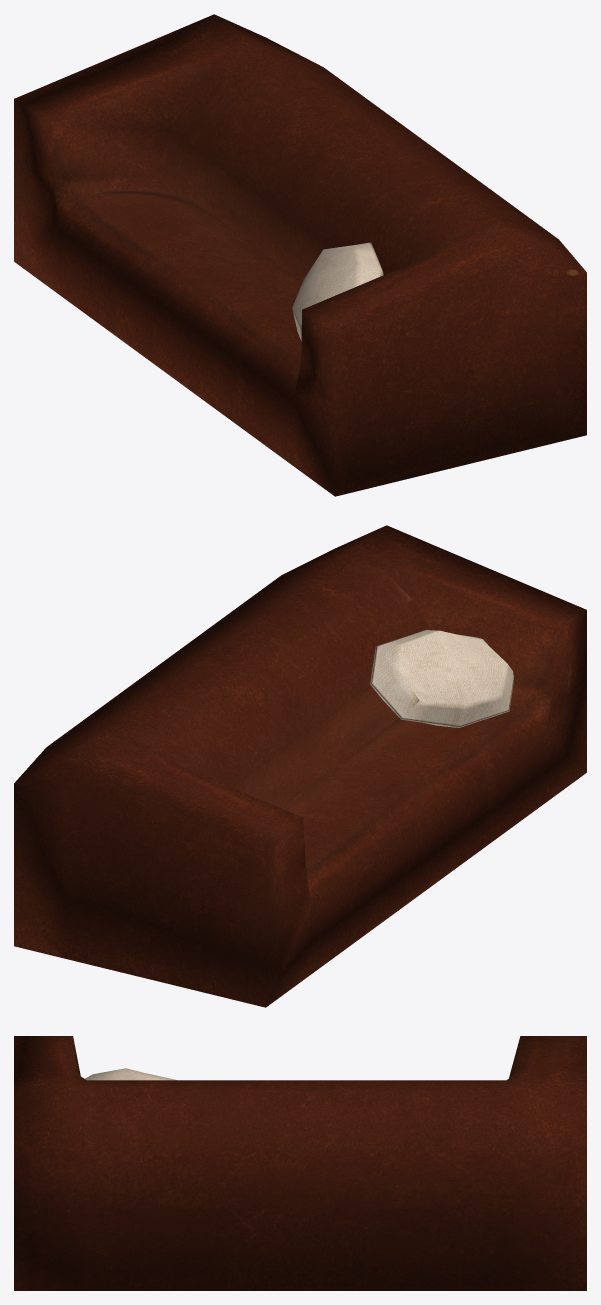
File: sofa_mesh.fbx
3 renders of one model, top to bottom at view 1: azimuth 30°, elevation 25°; view 2: azimuth 150°, elevation 25°; view 3: azimuth 270°, elevation 25°, orthographic. The views are drawn at different scales.
Parts seen in each view (by area): view 1: sofa; view 2: sofa; view 3: sofa.
Part boxes in pixels (x1,y1,x2,y2): sofa: (14,14,586,496); sofa: (14,525,586,1007); sofa: (14,1036,586,1290).
Size of the model in its own units: 106 by 75.65 by 222.
